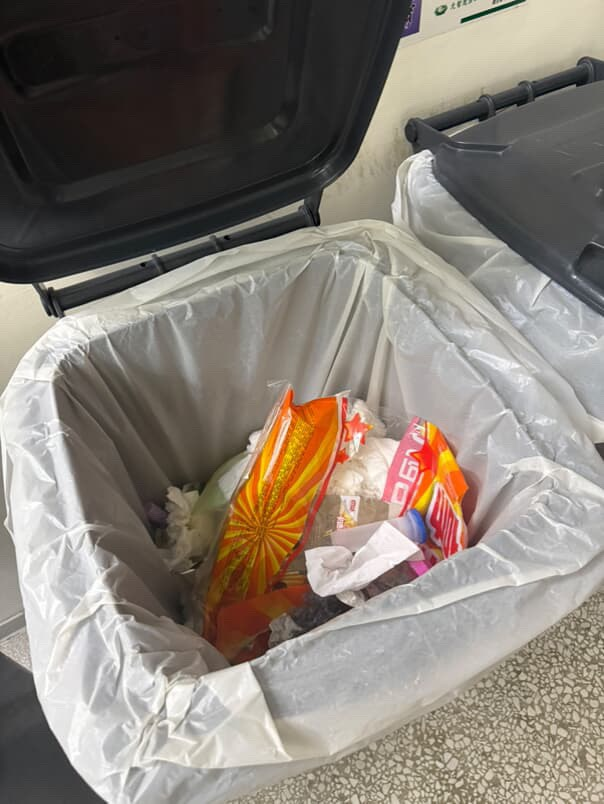normal_bin: (14, 214, 595, 787)
